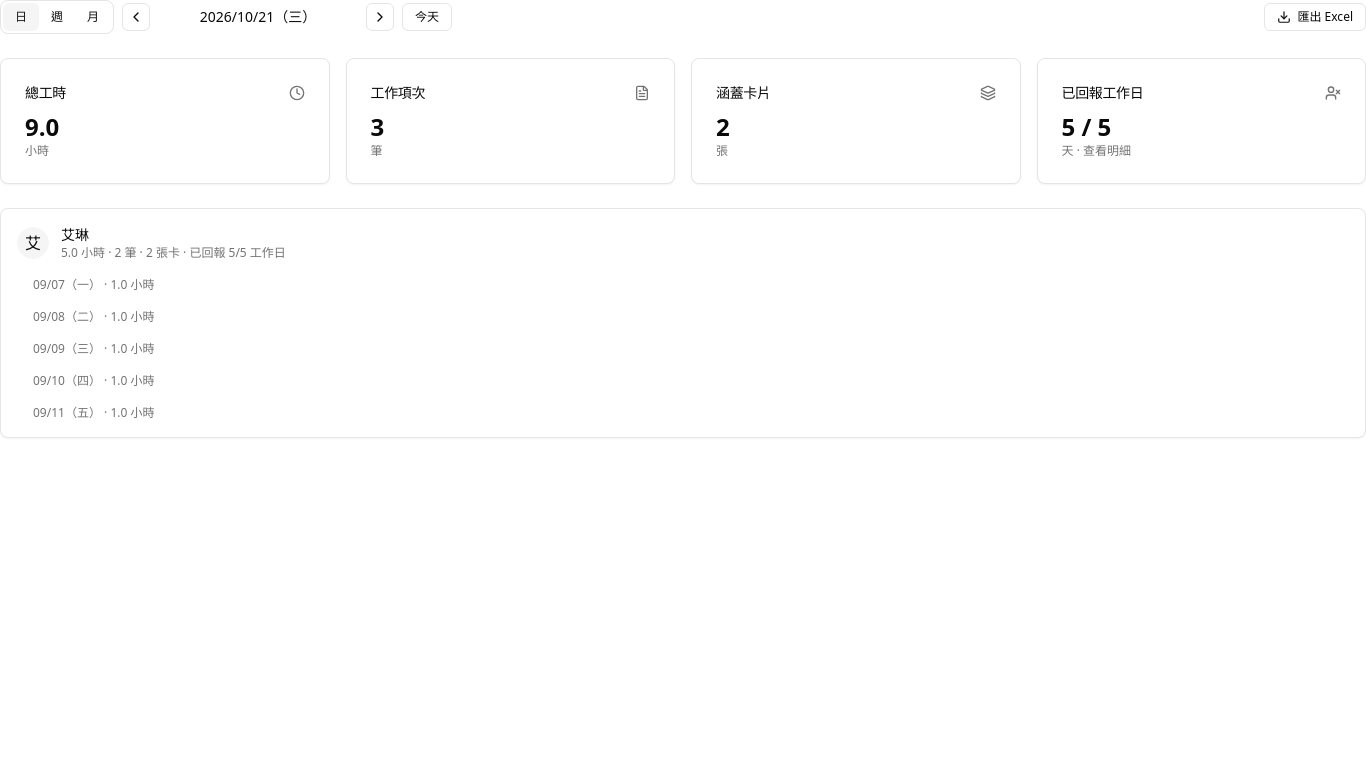
WorkLogReport › me 範圍全數回報時顯示此期間你沒有漏報
Click the button with test id "worklog-kpi-missing-button": (1201, 121) [1036, 58, 1365, 184]
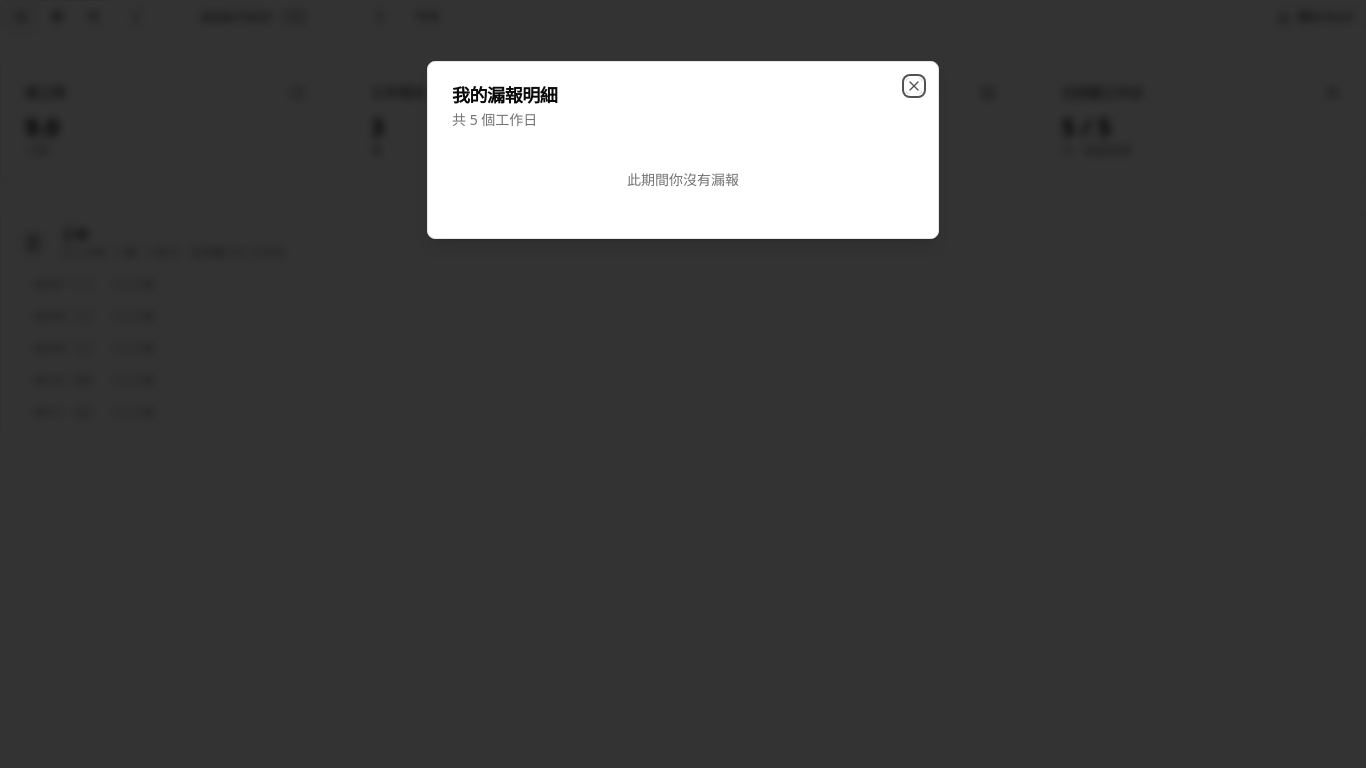
Check: the text "此期間你沒有漏報" is shown, box [627, 170, 739, 189]
